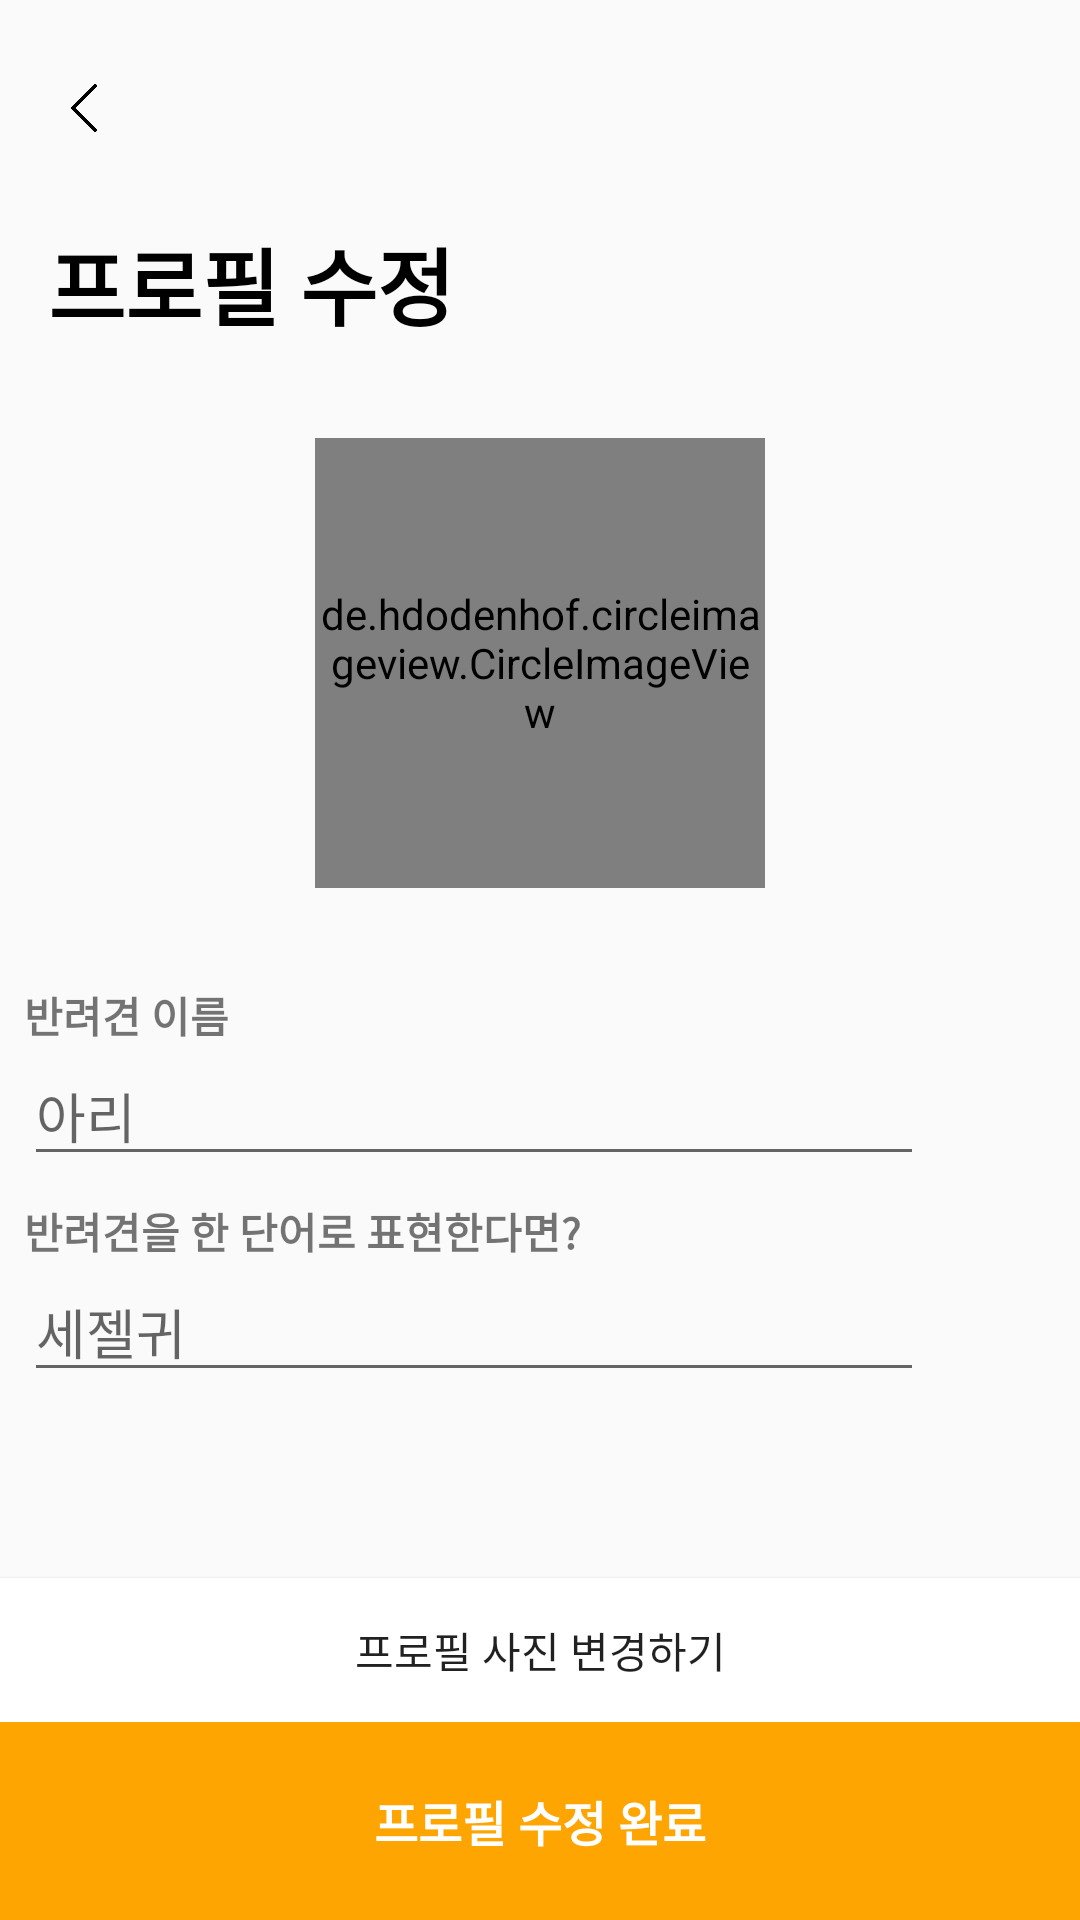

Screen size 1080px×1920px. Icon name, then its box in pixels as (x1, y1, x2, y2):
back: (71, 84, 97, 132)
